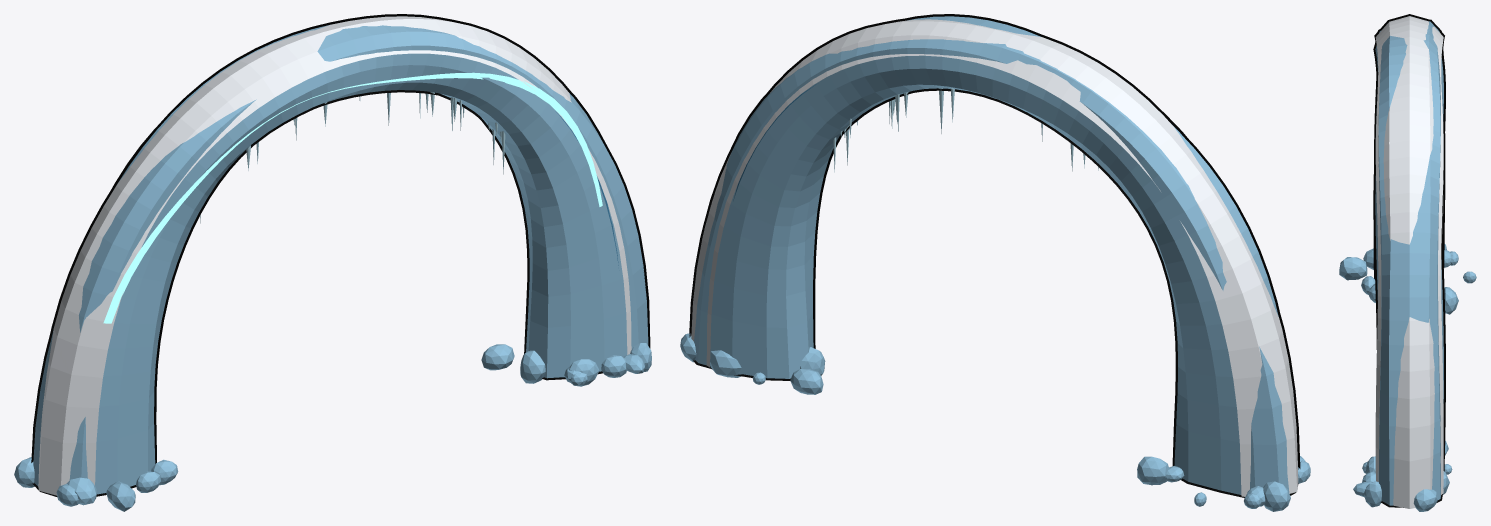
Rendered from Tundra_IceArch.glb.
The picture shows the model from 3 angles, left to right: view 1: azimuth 30°, elevation 25°; view 2: azimuth 150°, elevation 25°; view 3: azimuth 270°, elevation 25°; orthographic projection. The views are drawn at different scales.
Parts seen in each view (by area): view 1: IceArch_Body, IceArch_Cap, IceArch_Rubble, IceArch_OutlineHull, IceArch_GlowVein, IceArch_Icicles; view 2: IceArch_Body, IceArch_Cap, IceArch_OutlineHull, IceArch_Rubble, IceArch_Icicles; view 3: IceArch_Cap, IceArch_Body, IceArch_Rubble, IceArch_OutlineHull.
Part boxes in pixels (left/top/right/bottom): IceArch_Body: left=33, top=25, right=648, bottom=494; IceArch_Cap: left=38, top=16, right=631, bottom=495; IceArch_Rubble: left=14, top=343, right=651, bottom=511; IceArch_OutlineHull: left=31, top=14, right=650, bottom=497; IceArch_GlowVein: left=103, top=72, right=602, bottom=323; IceArch_Icicles: left=200, top=92, right=505, bottom=223; IceArch_Body: left=694, top=16, right=1289, bottom=494; IceArch_Cap: left=691, top=19, right=1298, bottom=496; IceArch_OutlineHull: left=689, top=14, right=1300, bottom=497; IceArch_Rubble: left=680, top=333, right=1310, bottom=511; IceArch_Icicles: left=833, top=88, right=1098, bottom=172; IceArch_Cap: left=1375, top=16, right=1443, bottom=508; IceArch_Body: left=1375, top=21, right=1443, bottom=505; IceArch_Rubble: left=1339, top=244, right=1476, bottom=511; IceArch_OutlineHull: left=1373, top=14, right=1445, bottom=507.
Bounding box in the file's own units: 22.73 × 14.14 × 5.07.
